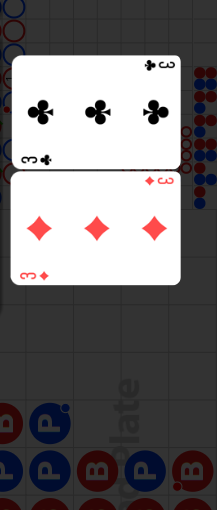3C: (142, 58, 176, 73)
3D: (142, 176, 174, 187)
